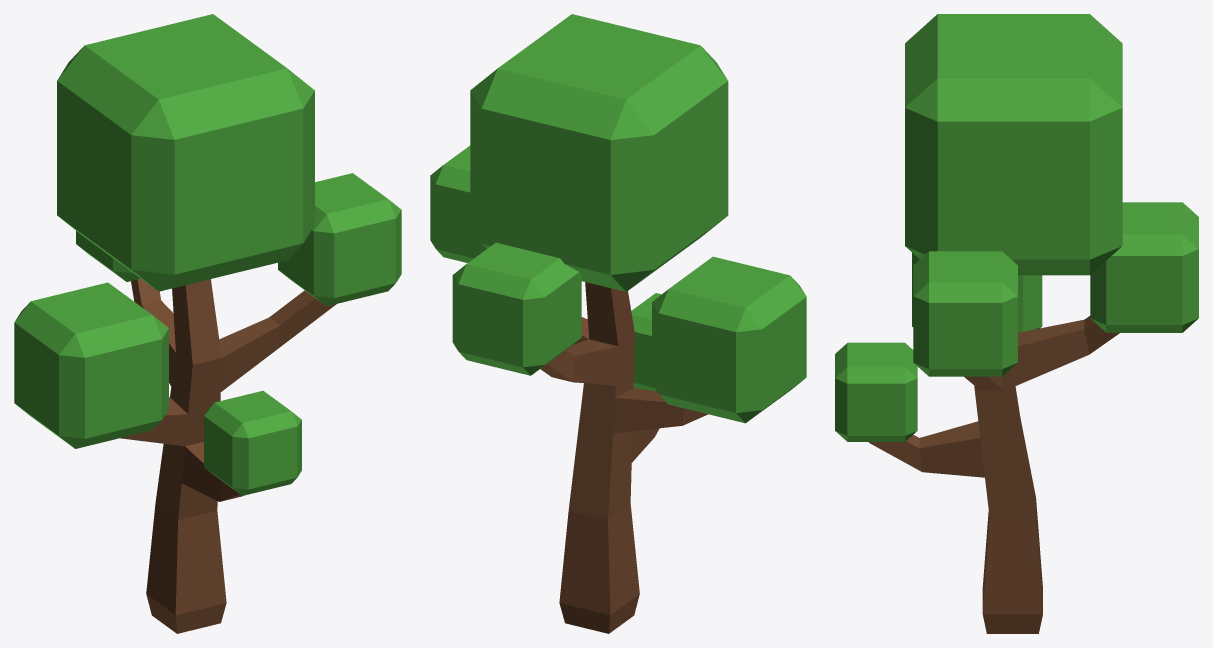
The model's file is halo_tree_detailed.obj.
3 renders of one model, left to right at view 1: azimuth 30°, elevation 25°; view 2: azimuth 150°, elevation 25°; view 3: azimuth 270°, elevation 25°, orthographic. The views are drawn at different scales.
Parts seen in each view (by area): view 1: tree_detailed; view 2: tree_detailed; view 3: tree_detailed.
Boxes of the visible parts, bbox=[...] form: tree_detailed: bbox=[14, 14, 401, 633]; tree_detailed: bbox=[430, 14, 806, 633]; tree_detailed: bbox=[835, 14, 1198, 633].
Size of the model in its own units: 0.8471 by 1.33 by 0.7616.
